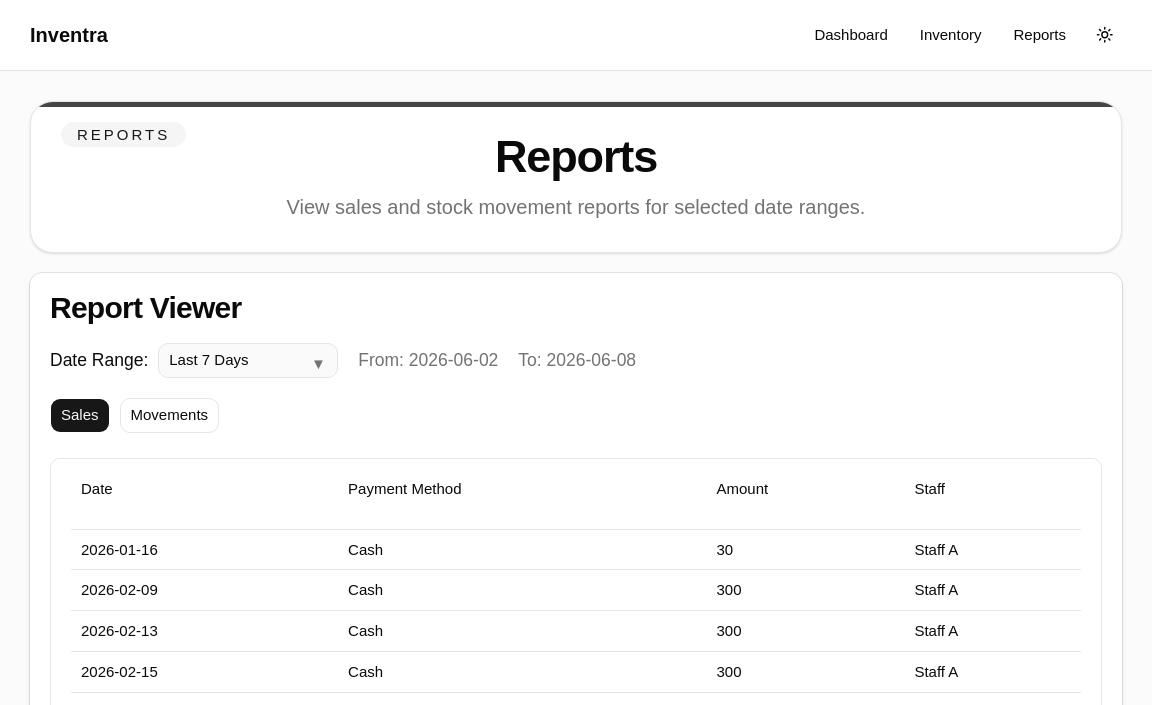
Scenario: Reports Page Tests › renders movements tab when clicked
The image size is (1152, 705).
Click the button "Movements". click: (169, 416)
box: [120, 398, 219, 433]
(page scrolled)
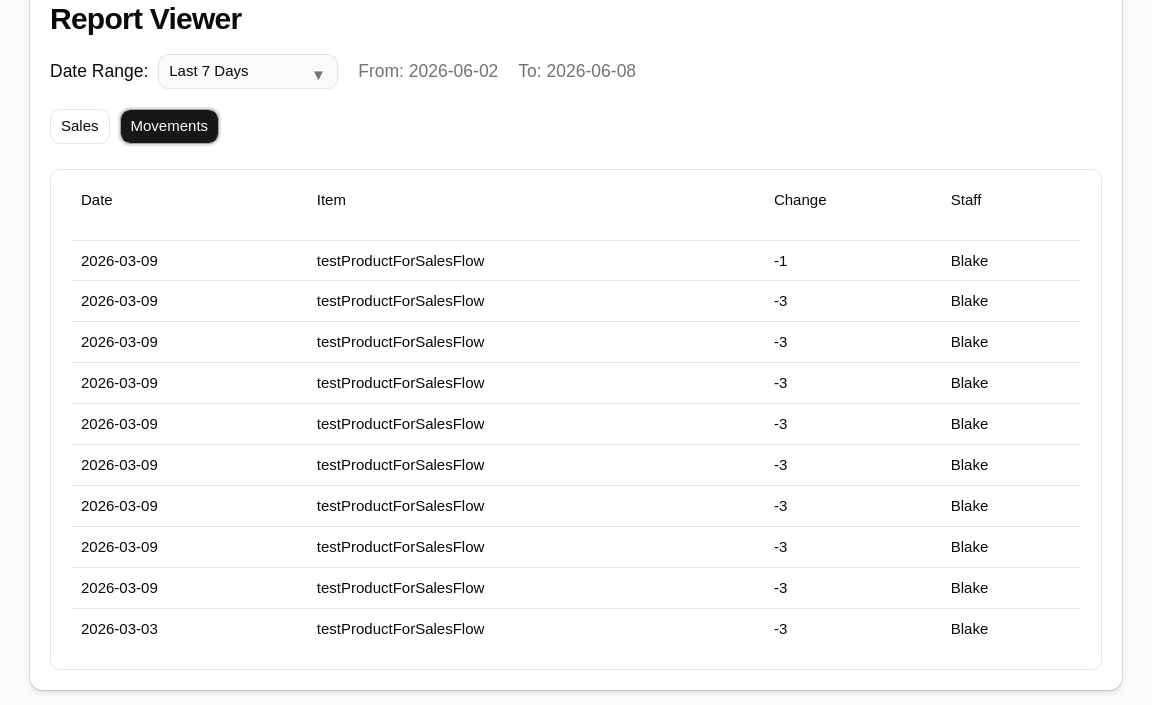
Check: the table is shown, box [71, 190, 1081, 649]
Check: the column headings read "Date", "Item", "Change", "Staff", in this order, box [71, 190, 307, 240]; [307, 190, 764, 240]; [764, 190, 941, 240]; [941, 190, 1081, 240]
